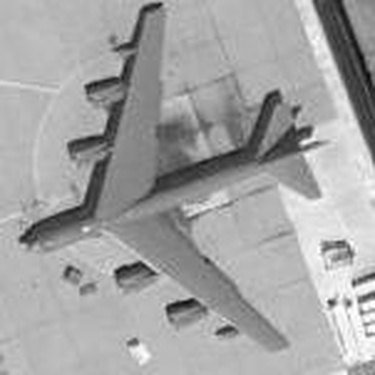airplane: (16, 1, 330, 358)
